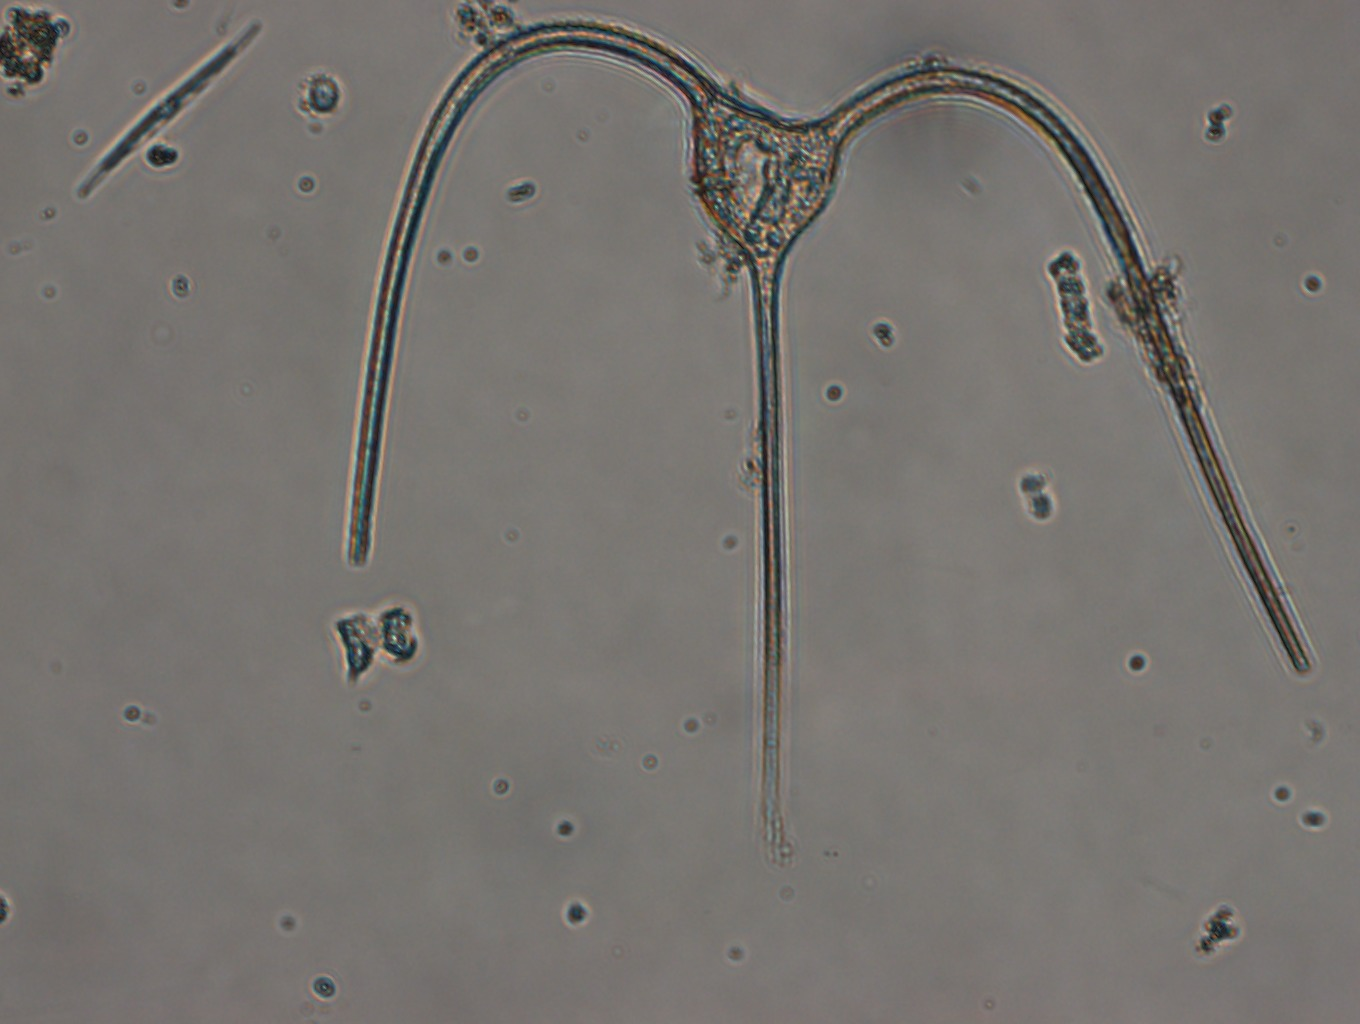ceratium trichoceros: (337, 13, 1323, 785)
